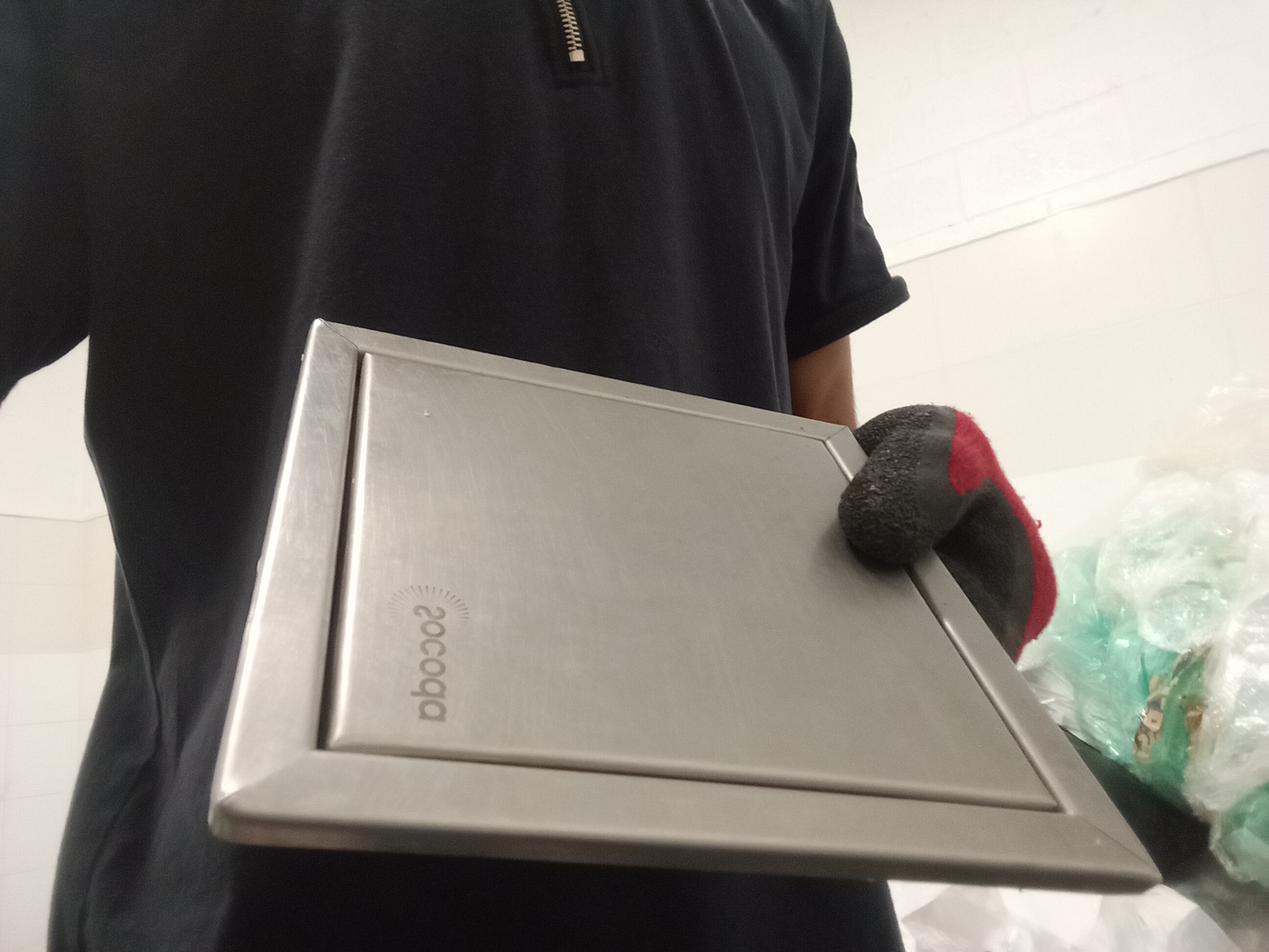Metal: (204, 319, 1160, 900)
